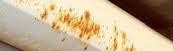Corrosion: (32, 4, 136, 51)
